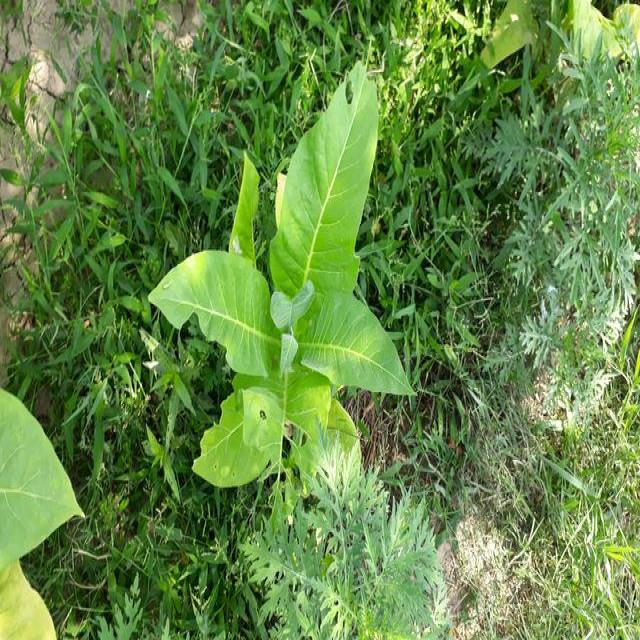crop: (170, 69, 394, 475), (0, 402, 72, 640)
